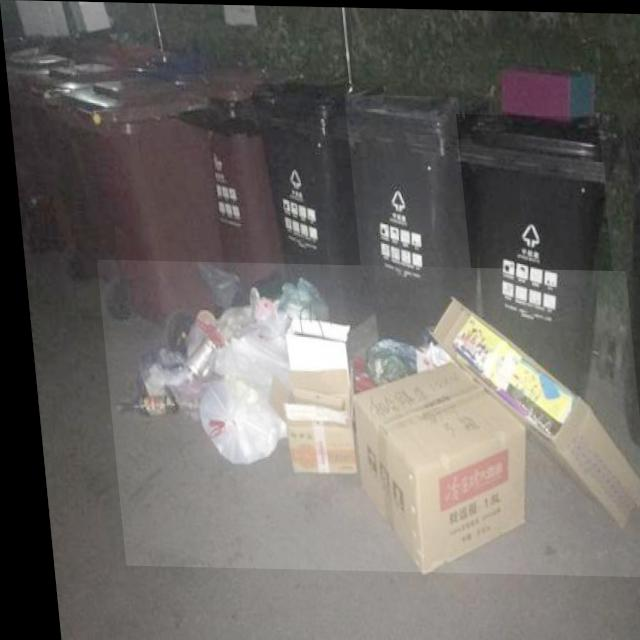garbage: (92, 259, 640, 574)
garbage_bin: (454, 112, 617, 391), (41, 71, 222, 319), (343, 93, 475, 336), (252, 82, 361, 309)
